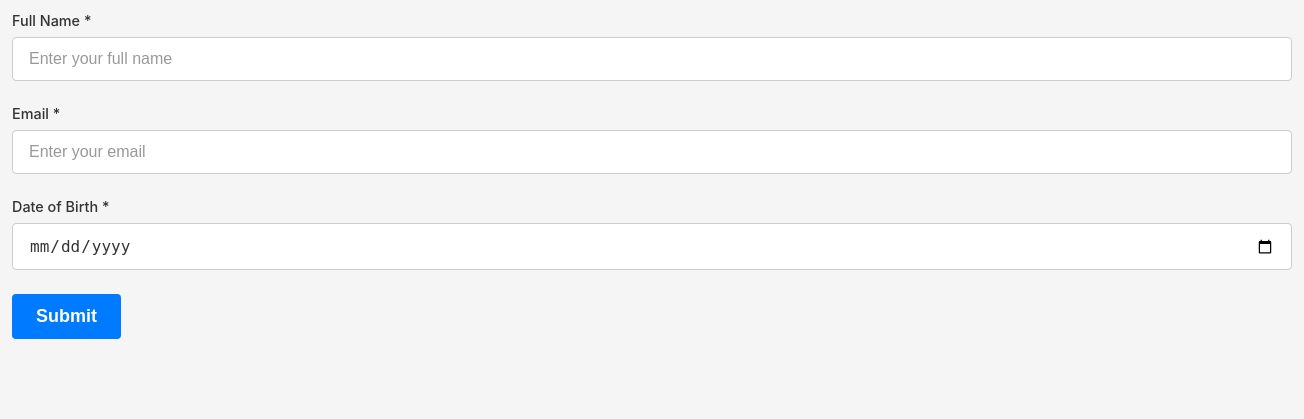
DynamicFormBuilder Component › validates email fields using validateEmail
Type "invalidemail" into the field labelled "Email *".
click(652, 152); type("invalidemail")  # box [12,130,1292,174]
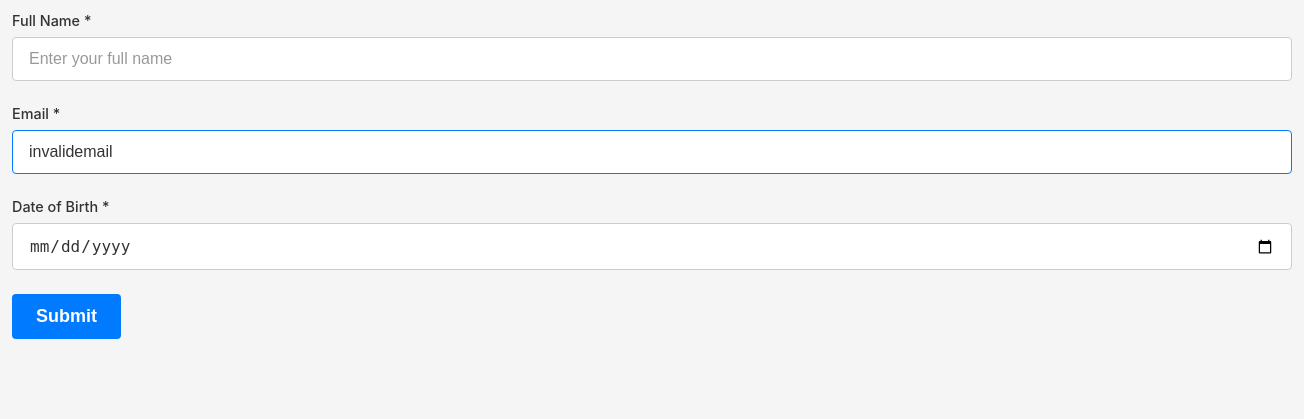
Click the button "Submit".
click(66, 316)  # box [12,294,121,339]
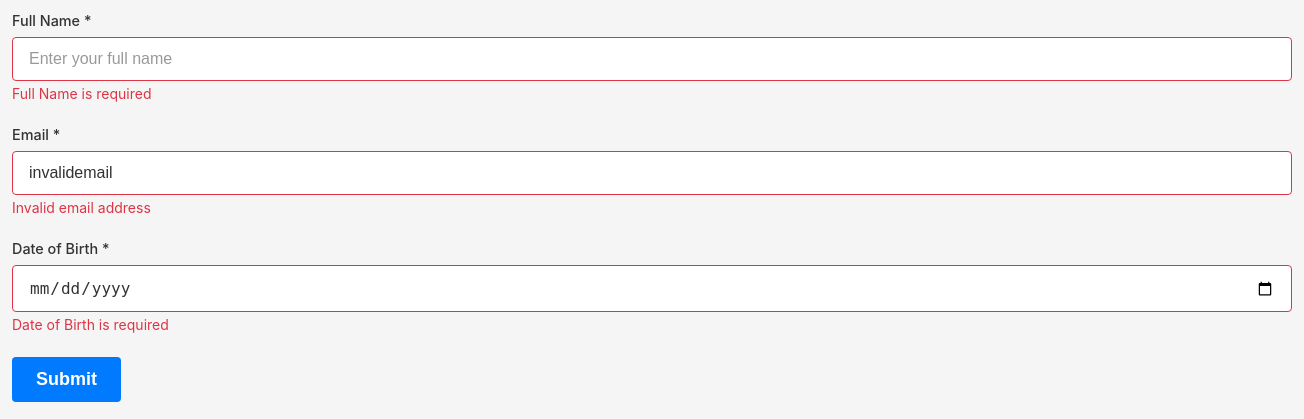
Expected: the text "Invalid email address" is shown, [12,199,151,216]
